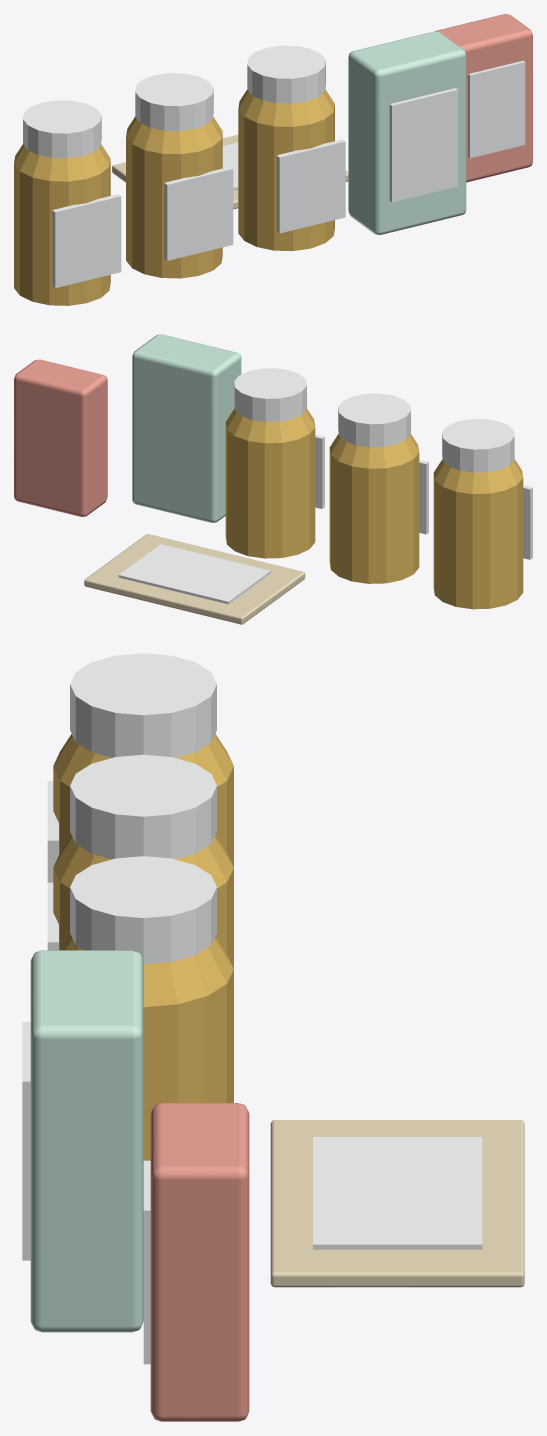
File: pharmacy-and-high-street-chemist-pill-bottle-and-box-s-35371962__37540.glb
3 views of the same model, one above another, from view 1: azimuth 30°, elevation 25°; view 2: azimuth 150°, elevation 25°; view 3: azimuth 270°, elevation 25° (orthographic). The views are drawn at different scales.
Visible parts, largest first — view 1: pill-bottle-and-box-set; view 2: pill-bottle-and-box-set; view 3: pill-bottle-and-box-set.
Boxes of the visible parts, x1,y1,x2,y2 form: pill-bottle-and-box-set: [14, 14, 532, 305]; pill-bottle-and-box-set: [14, 334, 532, 624]; pill-bottle-and-box-set: [22, 653, 524, 1421].
Bounding box in the file's own units: 0.392 × 0.122 × 0.178.
